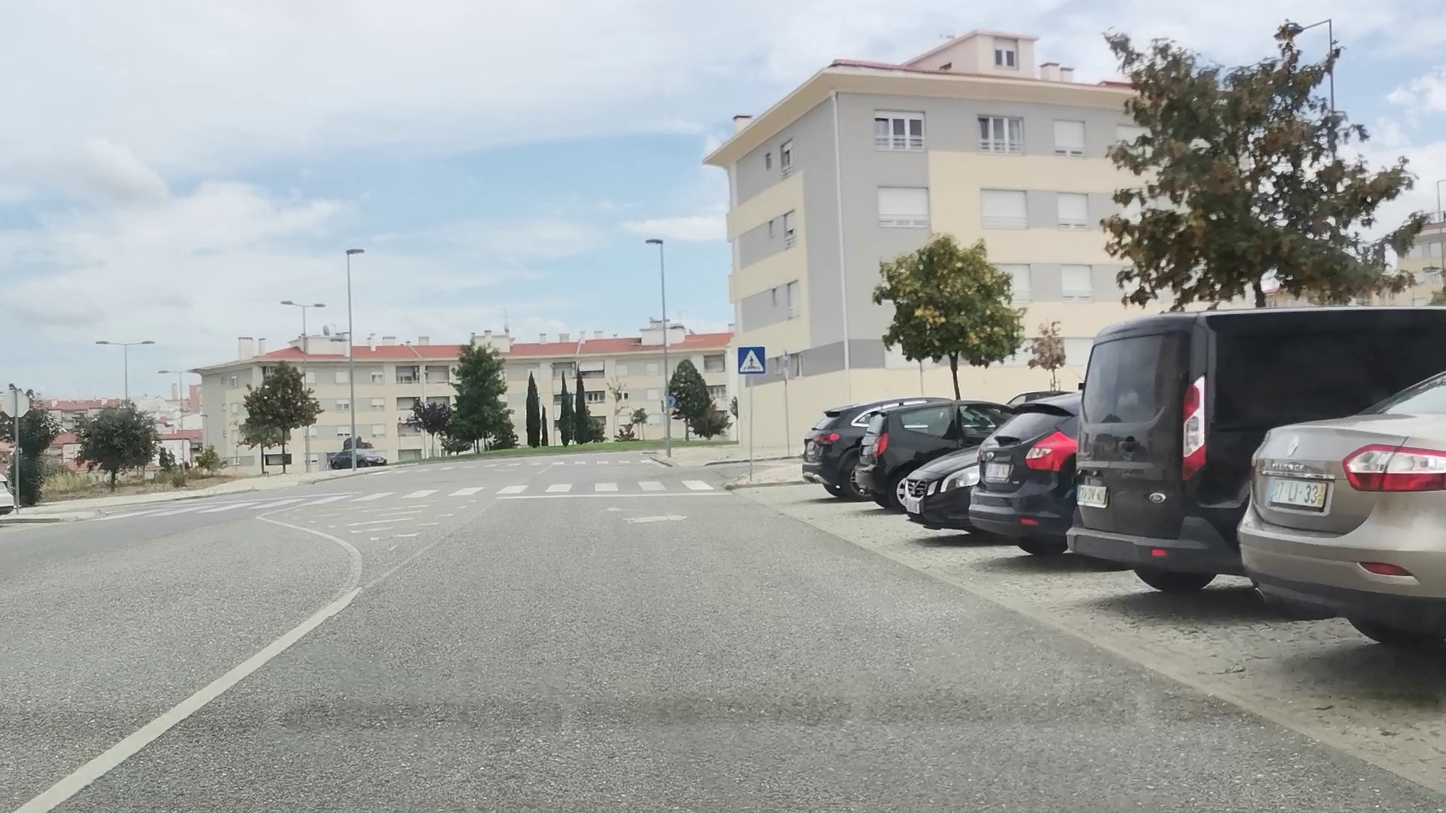Stairs: (87, 478, 722, 523)
